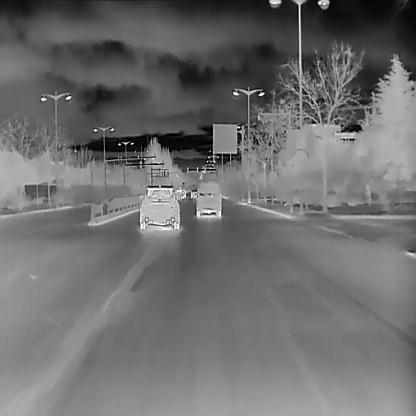car: (138, 184, 180, 229), (194, 179, 222, 218), (177, 186, 187, 198), (174, 188, 184, 199), (190, 188, 198, 198)
